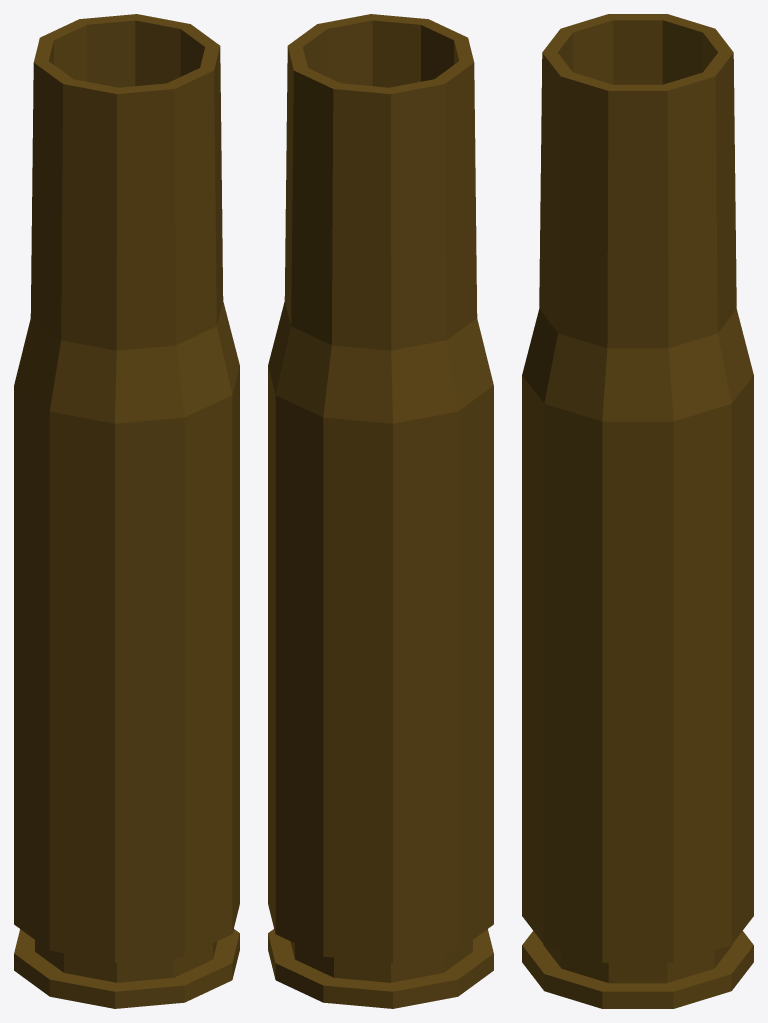
File: Repeater Casing.glb
3 renders of one model, left to right at view 1: azimuth 30°, elevation 25°; view 2: azimuth 150°, elevation 25°; view 3: azimuth 270°, elevation 25°, orthographic.
Parts seen in each view (by area): view 1: Repeater Casing; view 2: Repeater Casing; view 3: Repeater Casing.
Boxes of the visible parts, left/top/right/bottom form: Repeater Casing: left=14, top=14, right=239, bottom=1008; Repeater Casing: left=268, top=14, right=493, bottom=1008; Repeater Casing: left=522, top=14, right=753, bottom=1008.
Size of the model in its own units: 1.29 by 5.88 by 1.36.
